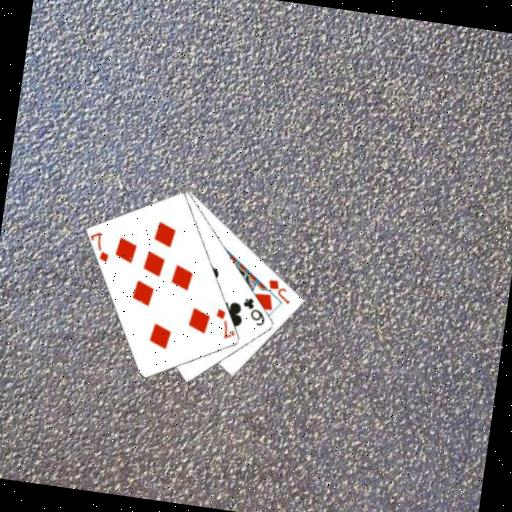6C: (238, 294, 270, 329)
7D: (211, 305, 239, 342), (86, 227, 114, 264)
JD: (263, 276, 295, 307)
